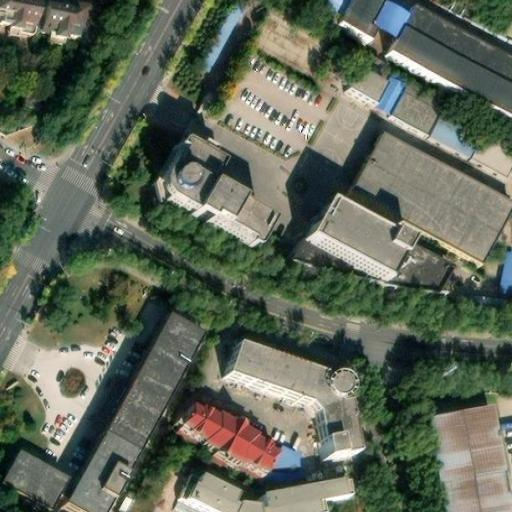building: (354, 136, 510, 261), (225, 347, 355, 461), (389, 7, 512, 122), (106, 317, 204, 453), (161, 142, 273, 247), (432, 405, 512, 512), (308, 204, 410, 283), (351, 56, 448, 134), (173, 407, 272, 478), (66, 434, 140, 512), (192, 0, 248, 80), (297, 234, 379, 279), (387, 241, 452, 293), (429, 99, 488, 156), (262, 481, 354, 512), (469, 120, 512, 175), (40, 0, 93, 41), (185, 476, 239, 512), (485, 249, 512, 297), (236, 505, 264, 512)
